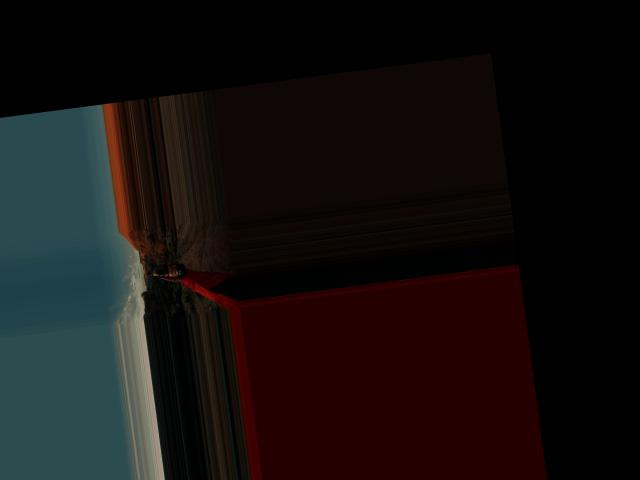beer: (146, 262, 185, 280)
